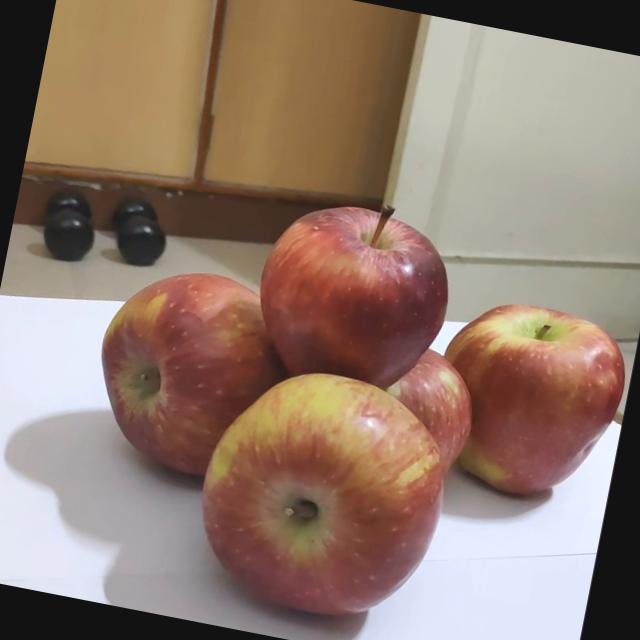apple: (206, 339, 509, 640), (84, 245, 320, 492), (260, 169, 494, 415), (422, 265, 640, 500)
